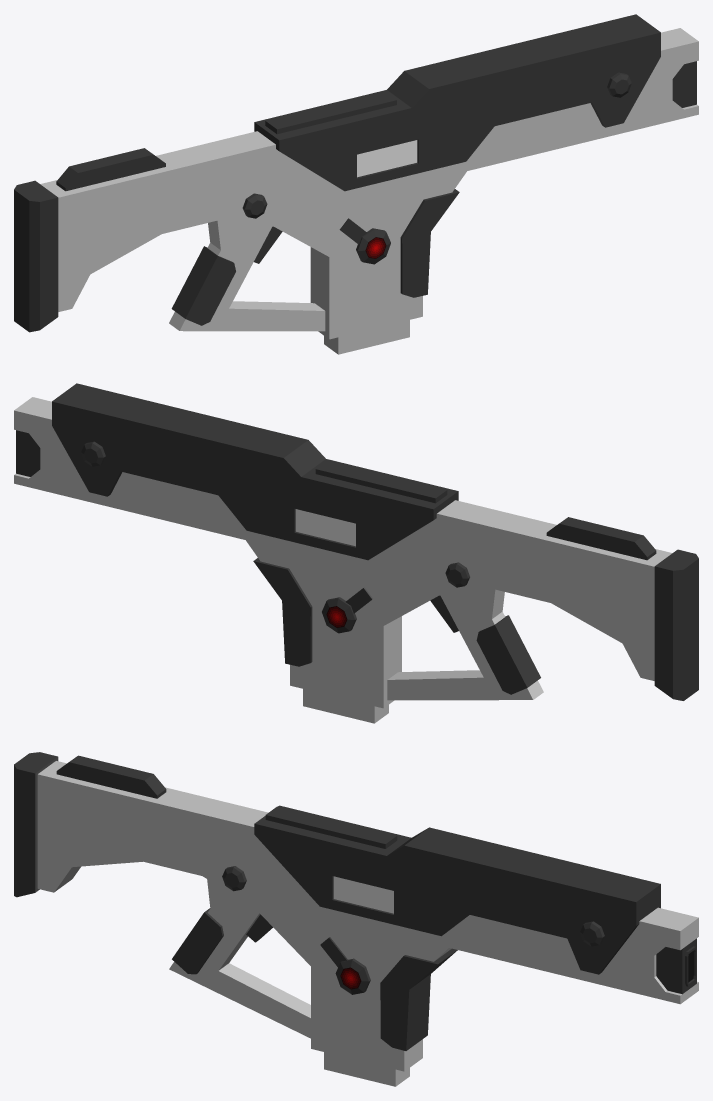
The model's file is Rifle_G_V4.FBX.
The picture shows the model from 3 angles, top to bottom: view 1: azimuth 30°, elevation 25°; view 2: azimuth 150°, elevation 25°; view 3: azimuth 330°, elevation 25°; orthographic projection.
Visible parts, largest first — view 1: Rifle_G_V4, Magazine; view 2: Rifle_G_V4, Magazine; view 3: Rifle_G_V4, Magazine.
Part boxes in pixels (x1,y1,x2,y2): Rifle_G_V4: (14, 14, 698, 339); Magazine: (324, 320, 409, 354); Rifle_G_V4: (14, 383, 698, 708); Magazine: (303, 689, 388, 723); Rifle_G_V4: (14, 752, 698, 1071); Magazine: (324, 1052, 409, 1086).
Bounding box in the file's own units: 361 × 128 × 29.83.
